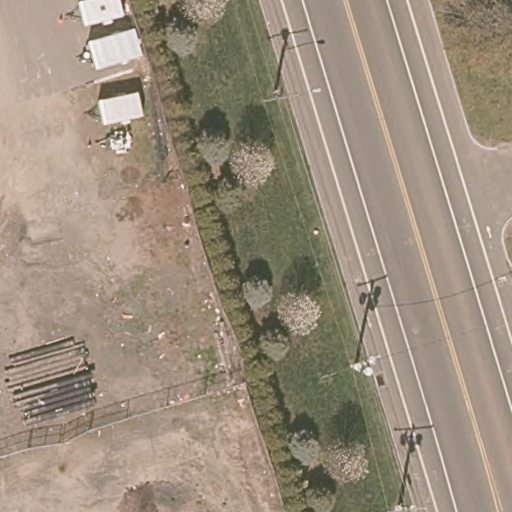DT: (351, 354, 379, 377), (262, 90, 301, 105)
